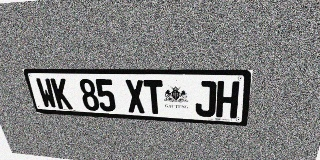5: (95, 79, 117, 112)
8: (78, 79, 100, 111)
H: (216, 81, 240, 118)
J: (195, 81, 217, 117)
K: (50, 78, 73, 109)
T: (143, 80, 164, 114)
W: (35, 78, 58, 109)
X: (124, 79, 146, 113)
